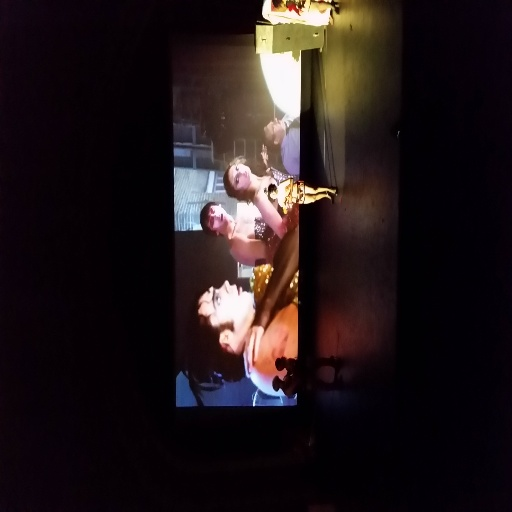hand: (241, 317, 266, 379)
